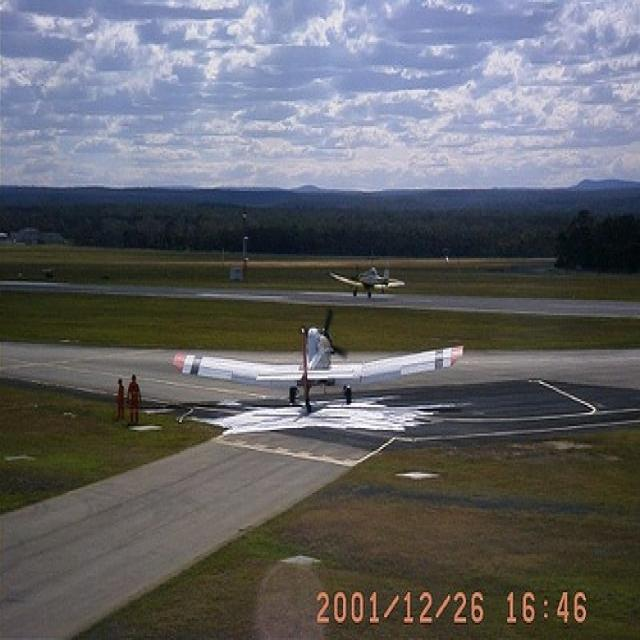aeroplane: (169, 307, 471, 429), (326, 259, 408, 314)
person: (128, 372, 146, 431), (113, 372, 131, 427)
